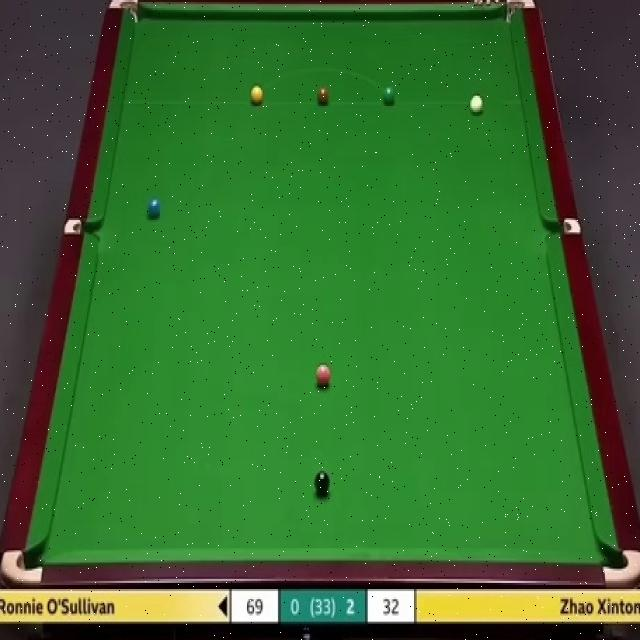black-ball: (314, 470, 330, 496)
blue-ball: (147, 198, 161, 221)
brown-ball: (316, 88, 330, 104)
green-ball: (382, 84, 396, 108)
pink-ball: (315, 362, 332, 391)
white-ball: (469, 92, 484, 115)
yellow-ball: (249, 84, 264, 106)
